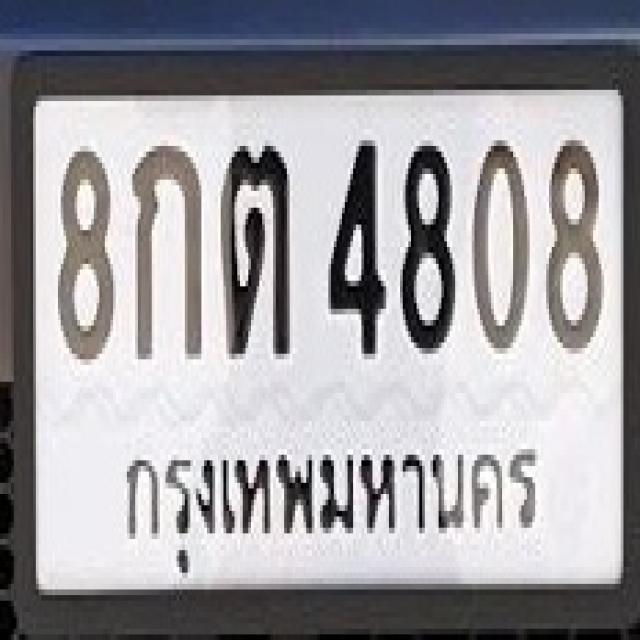license_plate: (11, 46, 640, 640)
